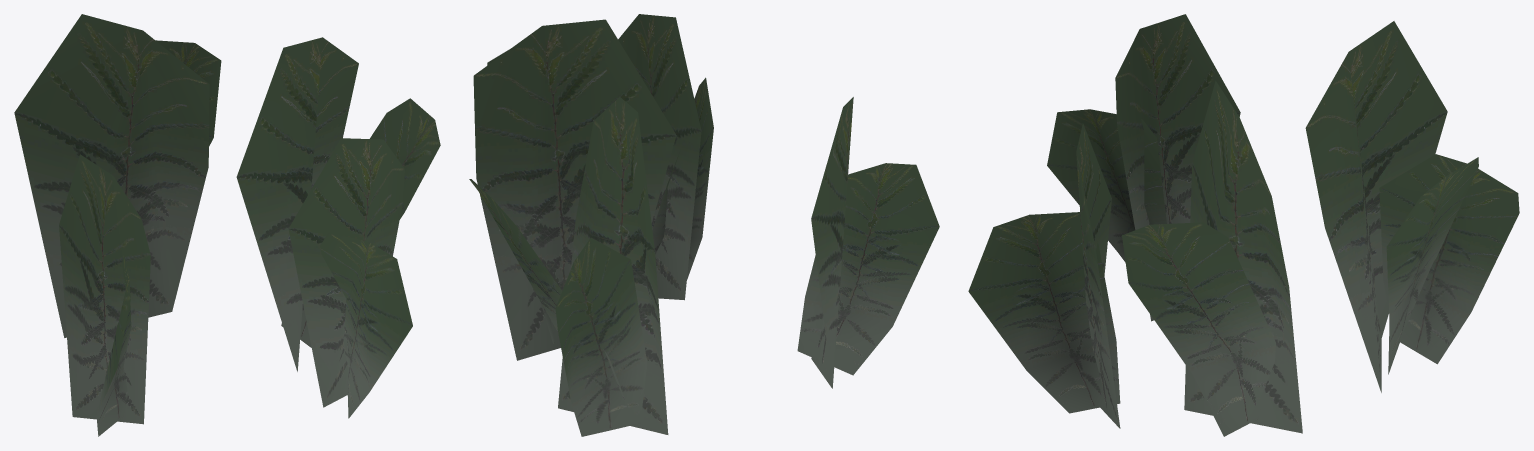
The model's file is prop_weed_002_ba.FBX.
3 views of the same model, side by side, from view 1: azimuth 30°, elevation 25°; view 2: azimuth 150°, elevation 25°; view 3: azimuth 270°, elevation 25° (orthographic). The views are drawn at different scales.
Parts seen in each view (by area): view 1: prop_weed_002_ba; view 2: prop_weed_002_ba; view 3: prop_weed_002_ba.
Boxes of the visible parts, <box> form: prop_weed_002_ba: <box>14,14,440,436</box>; prop_weed_002_ba: <box>469,14,939,436</box>; prop_weed_002_ba: <box>968,14,1519,436</box>.
Size of the model in its own units: 1.44 by 1.79 by 1.2.
Materials: 1 (1 with a texture image).
